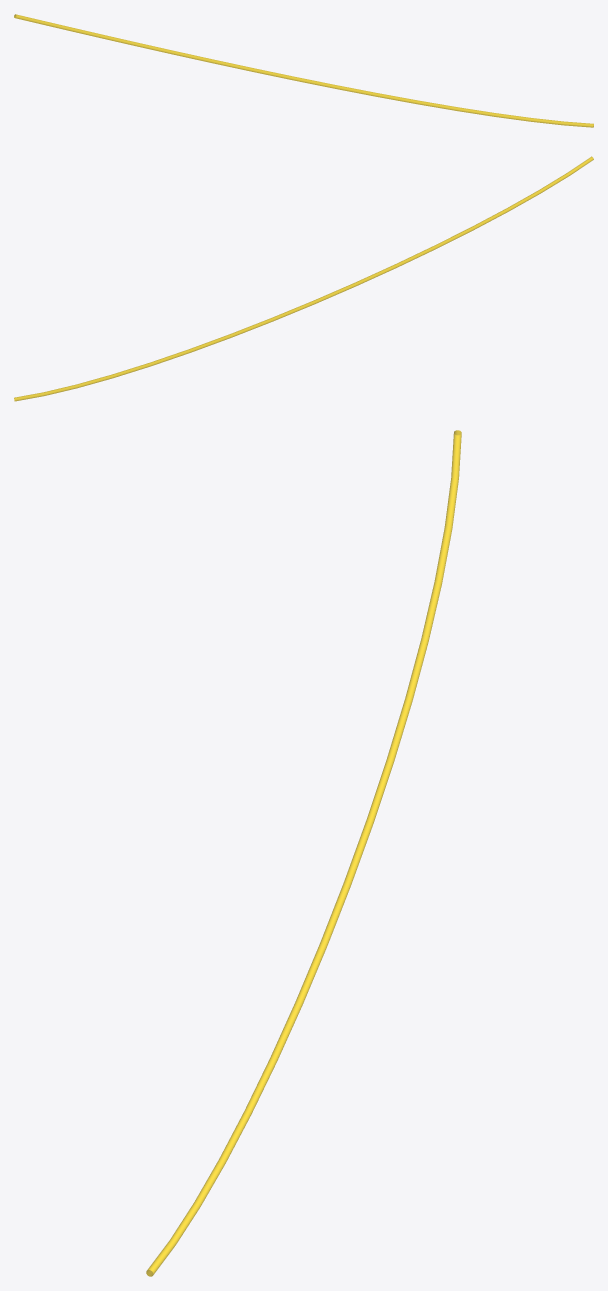
Rendered from Event_84804159_track_15.fbx.
The picture shows the model from 3 angles, top to bottom: view 1: azimuth 30°, elevation 25°; view 2: azimuth 210°, elevation 25°; view 3: azimuth 270°, elevation 25°; orthographic projection. The views are drawn at different scales.
Visible parts, largest first — view 1: Model; view 2: Model; view 3: Model.
Boxes of the visible parts, <box> form: Model: <box>14,14,593,127</box>; Model: <box>14,156,593,401</box>; Model: <box>146,430,461,1276</box>.
Bounding box in the file's own units: 5.86 × 1.99 × 1.59.
